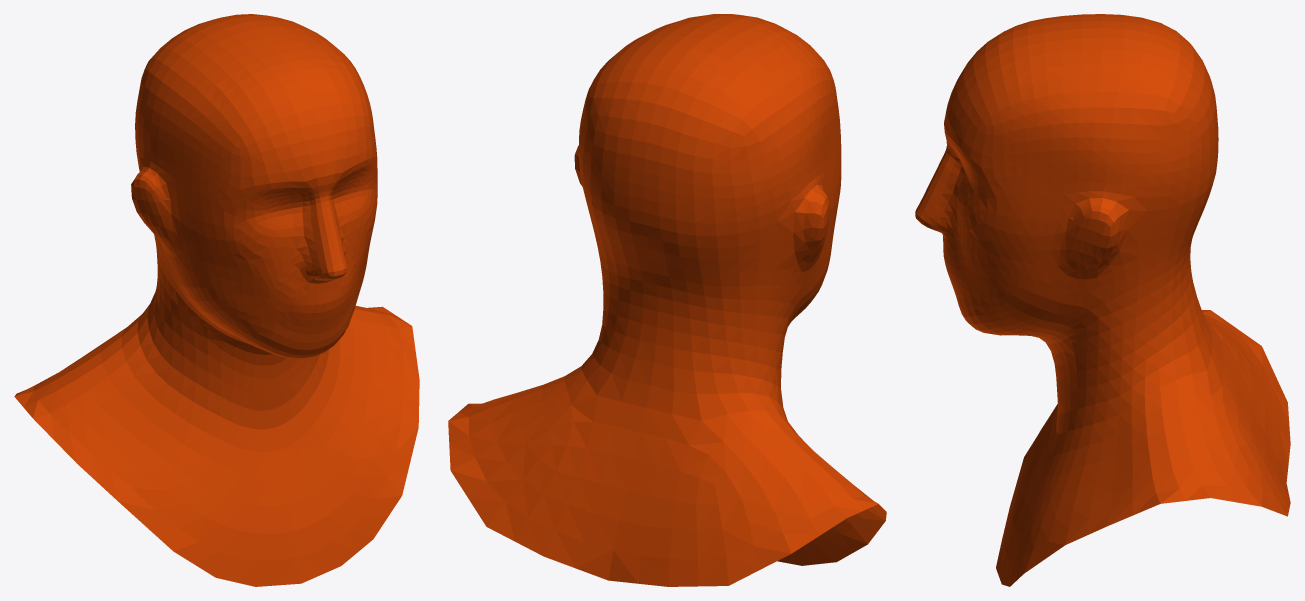
Rendered from head2.dae.
3 renders of one model, left to right at view 1: azimuth 30°, elevation 25°; view 2: azimuth 150°, elevation 25°; view 3: azimuth 270°, elevation 25°, orthographic. The views are drawn at different scales.
Visible parts, largest first — view 1: basicHead_0; view 2: basicHead_0; view 3: basicHead_0.
Part boxes in pixels (bbox=[...]): basicHead_0: bbox=[14, 14, 419, 586]; basicHead_0: bbox=[448, 14, 886, 586]; basicHead_0: bbox=[915, 14, 1290, 586].
Size of the model in its own units: 15.03 by 12.32 by 19.55.
